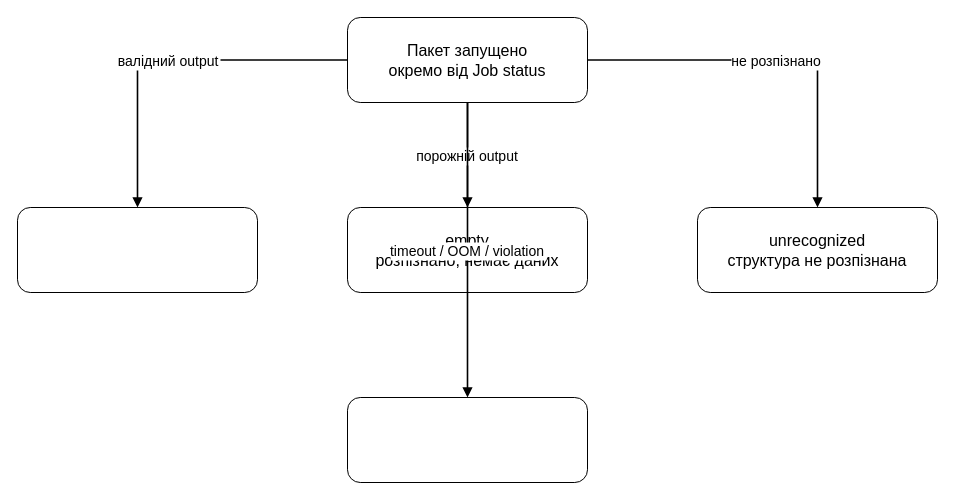
The diagram is 955 pixels wide and 500 high, and some of its shapes have lost their labels. The shapes that lost their labels are listed below. From the top down, each one's box as (x1, y1, x2, y2) in pixels, then its label:
(16, 206, 258, 292): success є дані
(346, 396, 588, 482): failed технічна помилка
